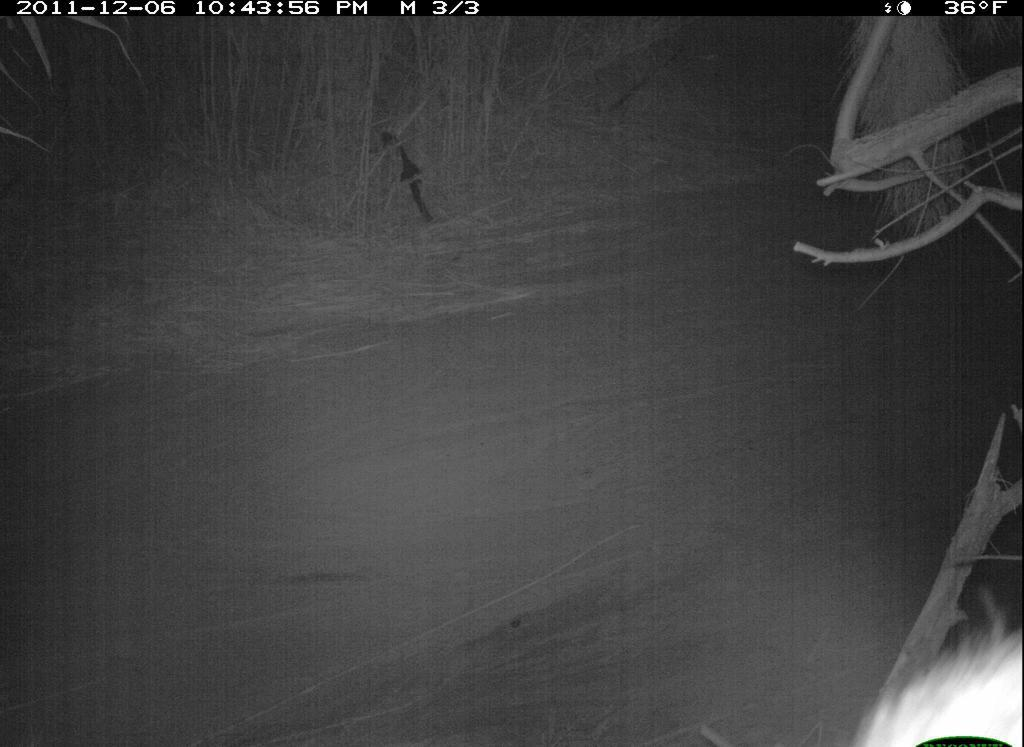raccoon: (852, 597, 1022, 747)
